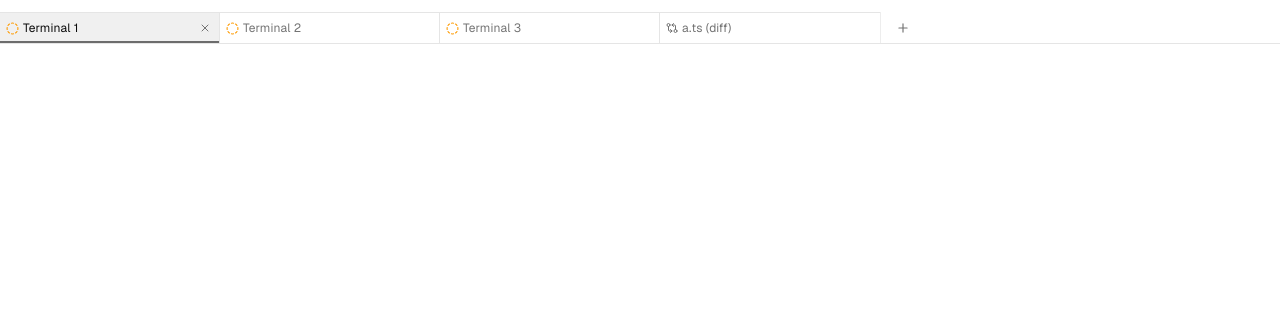
it: TabBar editor rename (#335) › hides Rename for diff tabs (their content comes from git)
The width and height of the screenshot is (1280, 310).
Right-click the tab "a.ts (diff)" at {"x": 770, "y": 28}, box [660,12,880,43]
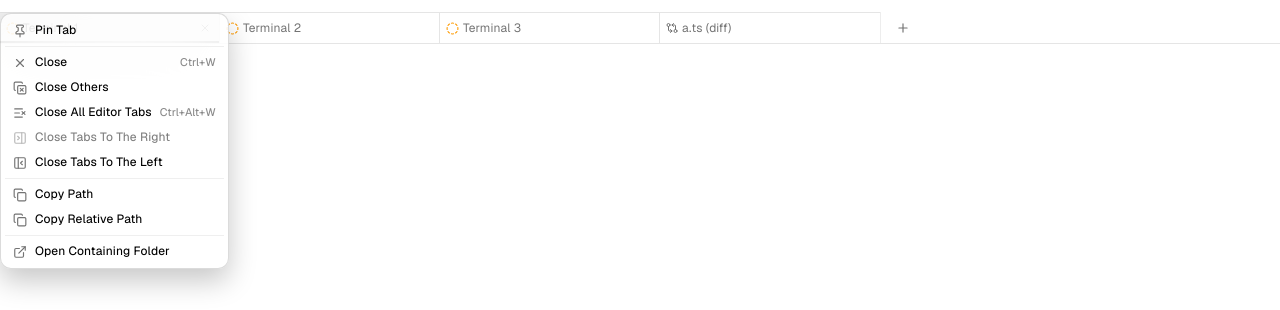
expect the menu item "Copy Path" is shown: met, box [13,186,94,202]
